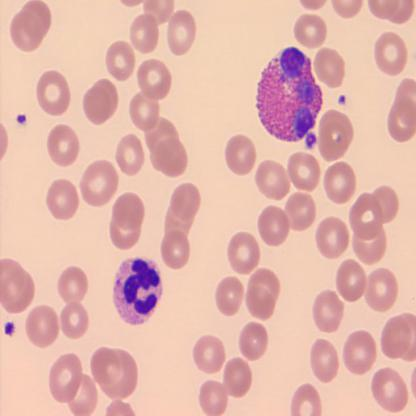Eosinophil: (256, 46, 326, 150)
